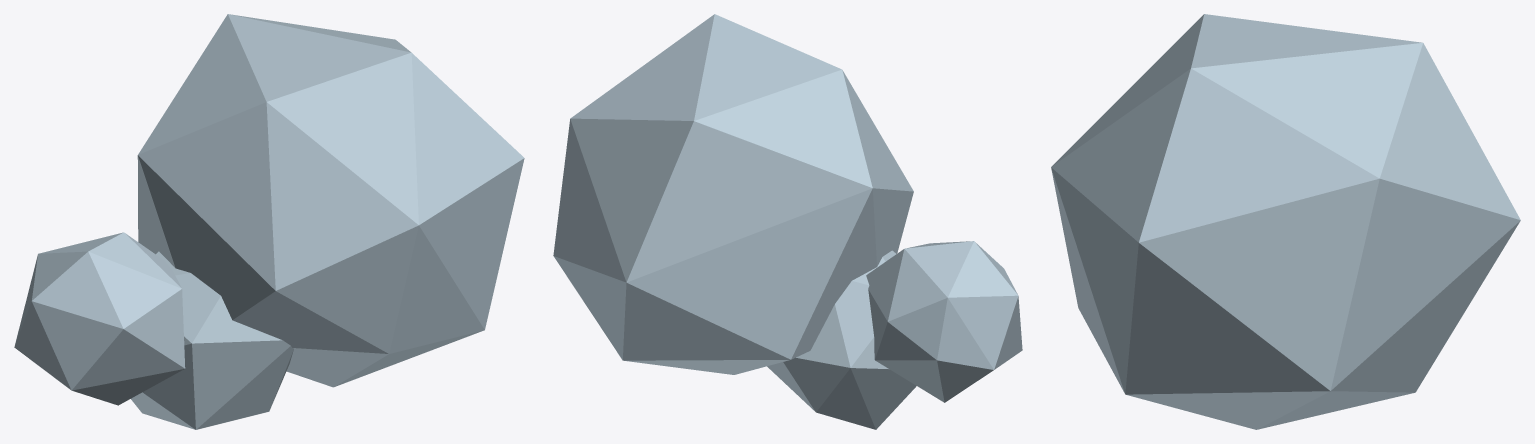
Rendered from small_cloud_39.fbx.
The picture shows the model from 3 angles, left to right: view 1: azimuth 30°, elevation 25°; view 2: azimuth 150°, elevation 25°; view 3: azimuth 270°, elevation 25°; orthographic projection. The views are drawn at different scales.
Parts seen in each view (by area): view 1: cloud_9; view 2: cloud_9; view 3: cloud_9.
Boxes of the visible parts, x1,y1,x2,y2 form: cloud_9: (14,14,524,429); cloud_9: (553,14,1022,429); cloud_9: (1051,14,1520,429).
Size of the model in its own units: 321 by 238 by 254.
